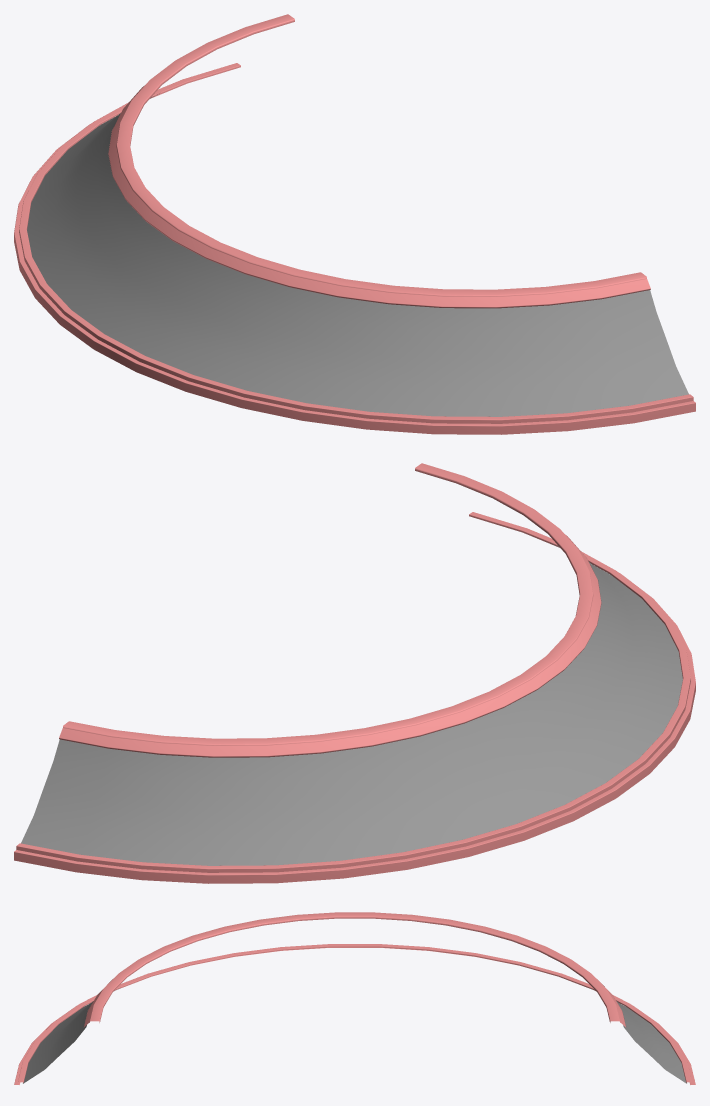
The model's file is SM_ENV_LKNVLD_Ground_Hill_Round_L.gltf.
3 renders of one model, top to bottom at view 1: azimuth 30°, elevation 25°; view 2: azimuth 150°, elevation 25°; view 3: azimuth 270°, elevation 25°, orthographic. The views are drawn at different scales.
Parts seen in each view (by area): view 1: SM_ENV_LKNVLD_Ground_Hill_Round_L; view 2: SM_ENV_LKNVLD_Ground_Hill_Round_L; view 3: SM_ENV_LKNVLD_Ground_Hill_Round_L.
Boxes of the visible parts, bbox=[...] form: SM_ENV_LKNVLD_Ground_Hill_Round_L: bbox=[14, 14, 695, 434]; SM_ENV_LKNVLD_Ground_Hill_Round_L: bbox=[14, 463, 695, 883]; SM_ENV_LKNVLD_Ground_Hill_Round_L: bbox=[14, 912, 695, 1084].
Size of the model in its own units: 26.61 by 6.27 by 54.44.
